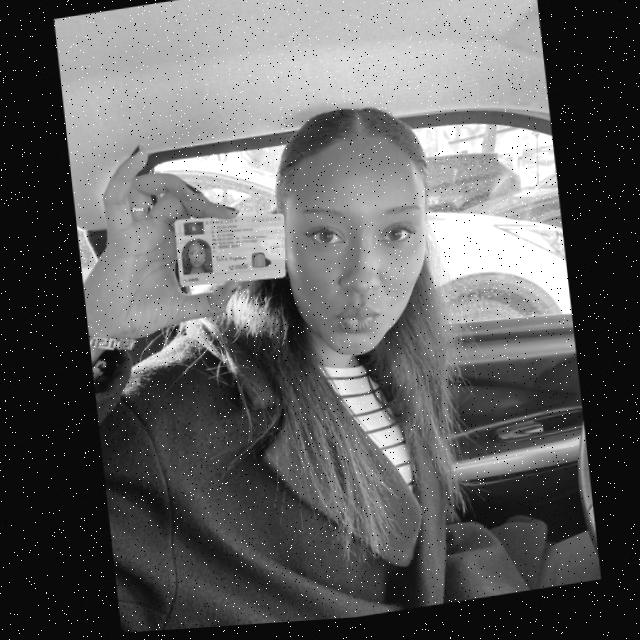card: (175, 214, 285, 286)
